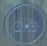bike lane: (6, 6, 43, 45)
